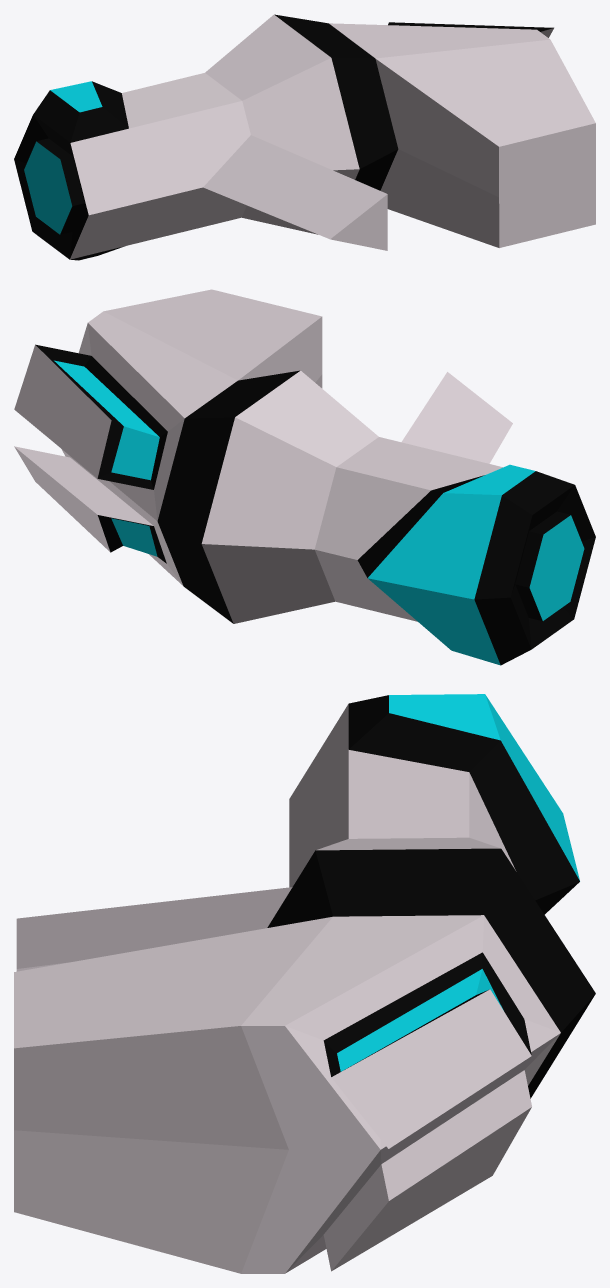
Rendered from LaserGun.fbx.
The picture shows the model from 3 angles, top to bottom: view 1: azimuth 30°, elevation 25°; view 2: azimuth 150°, elevation 25°; view 3: azimuth 270°, elevation 25°; orthographic projection. The views are drawn at different scales.
Parts seen in each view (by area): view 1: Laser; view 2: Laser; view 3: Laser.
Boxes of the visible parts, bbox=[...] form: Laser: bbox=[14, 14, 595, 260]; Laser: bbox=[14, 289, 595, 665]; Laser: bbox=[14, 694, 595, 1273].
Bounding box in the file's own units: 0.4925 × 0.1772 × 0.3183.
